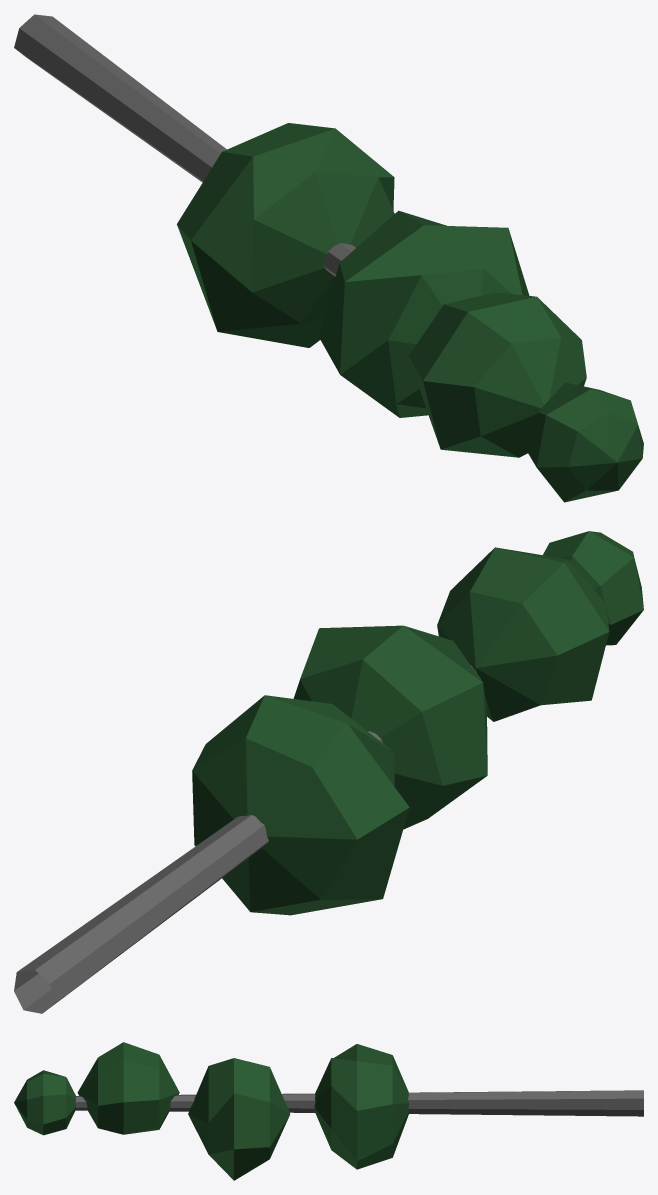
Rendered from growth_0.glb.
The picture shows the model from 3 angles, top to bottom: view 1: azimuth 30°, elevation 25°; view 2: azimuth 150°, elevation 25°; view 3: azimuth 270°, elevation 25°; orthographic projection. The views are drawn at different scales.
Visible parts, largest first — view 1: tree_05_growth_0; view 2: tree_05_growth_0; view 3: tree_05_growth_0.
Boxes of the visible parts, x1,y1,x2,y2 form: tree_05_growth_0: [14, 14, 643, 502]; tree_05_growth_0: [14, 531, 643, 1013]; tree_05_growth_0: [14, 1042, 643, 1180].
Bounding box in the file's own units: 5.46 × 4.83 × 23.91.
